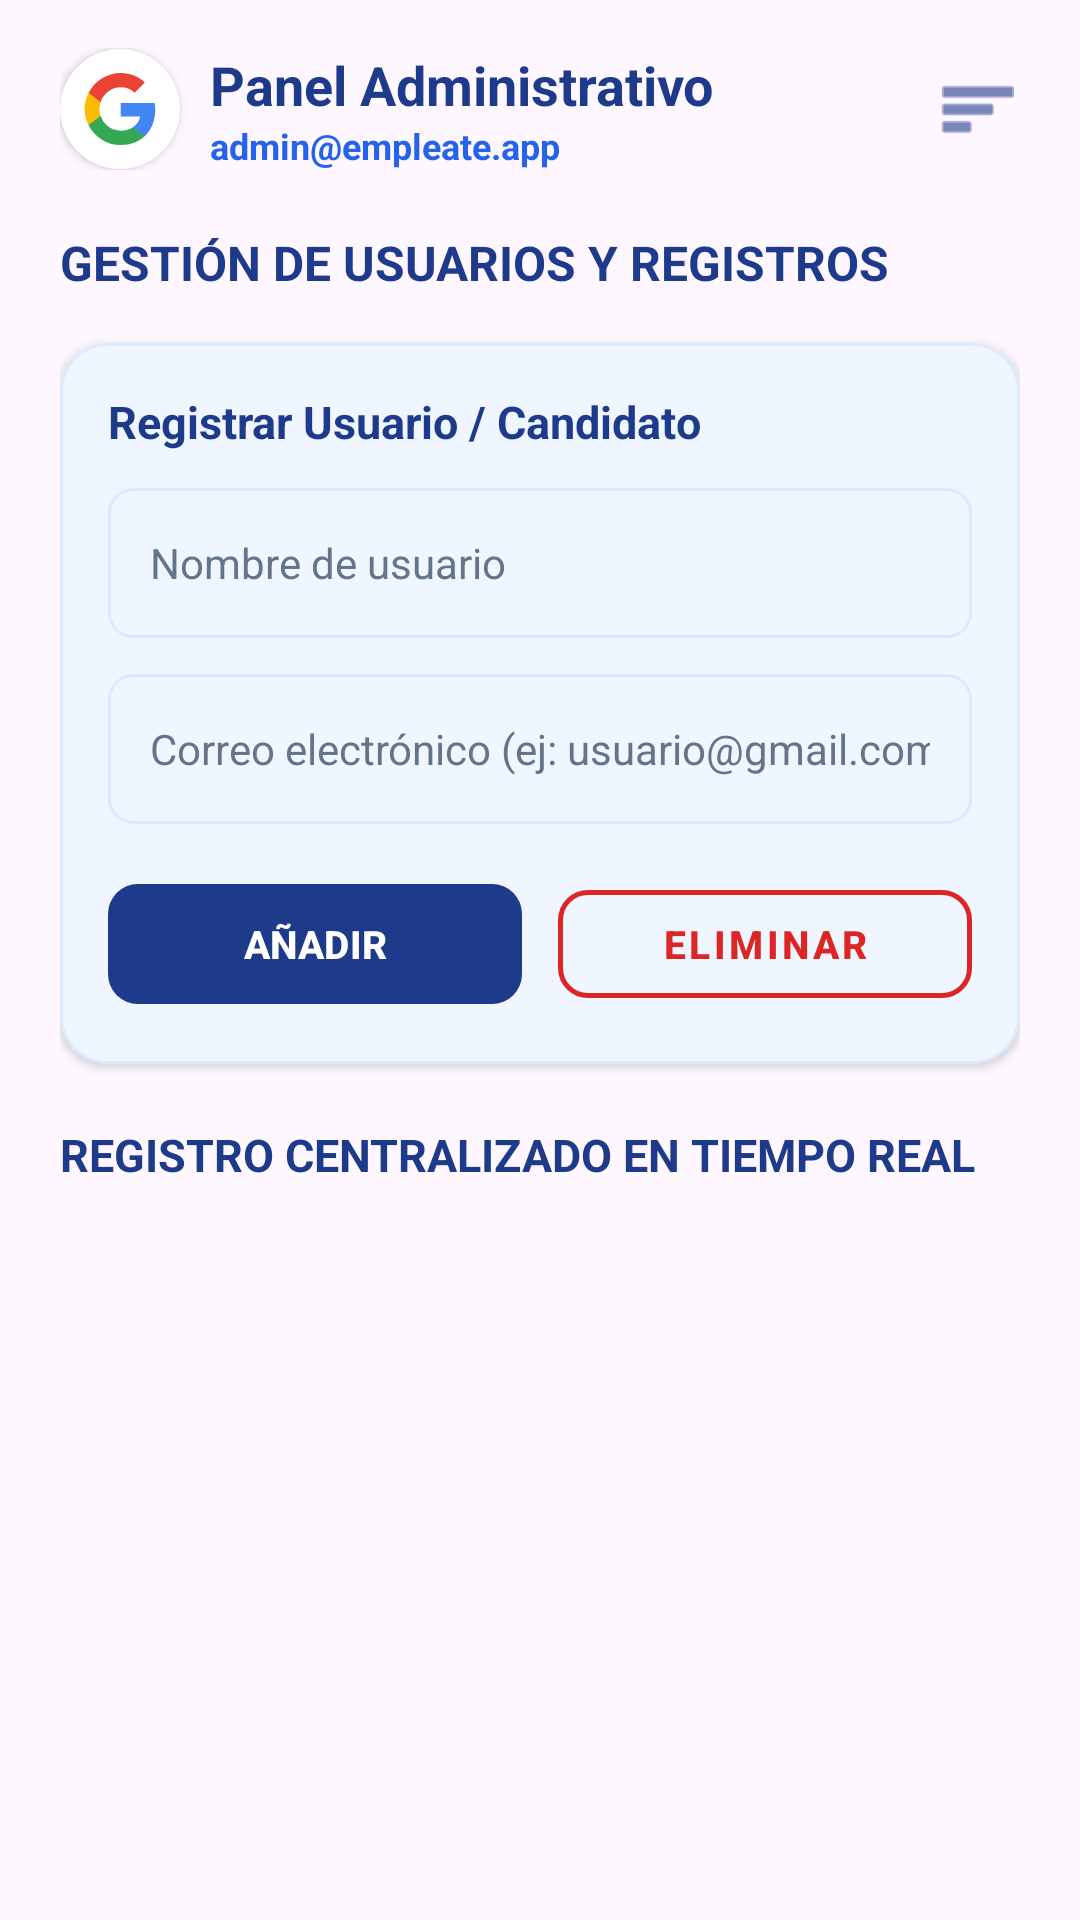

Screen size 1080×1920. Icon name, then its center in pixels as (x=x, y=y):
Menú: (x=978, y=109)
